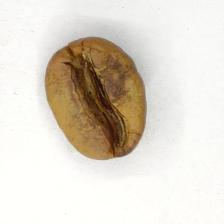NG: (60, 44, 133, 151)
